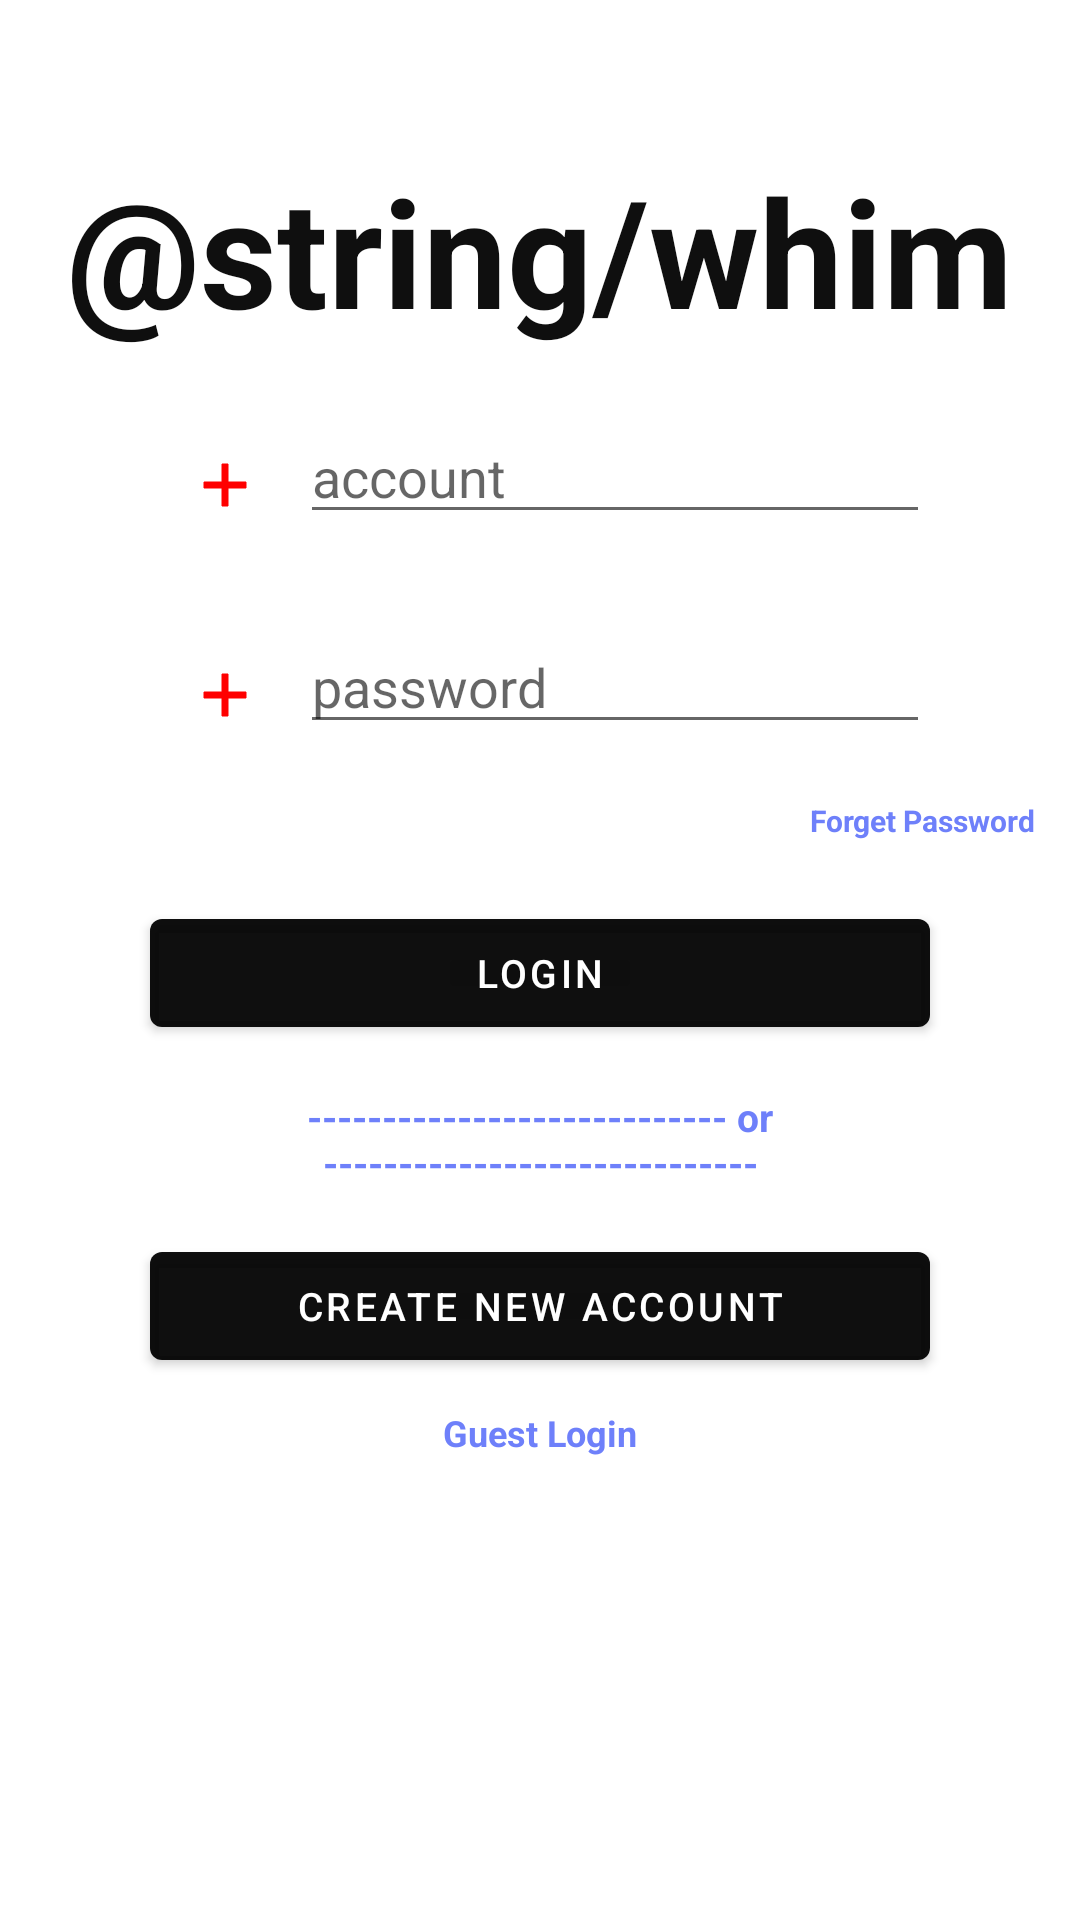

Locate icon controls on the screen. Image size 1080 × 1920, boxes as (x1, y1, x2, y2).
add: (203, 463, 247, 507), (203, 673, 247, 717)
